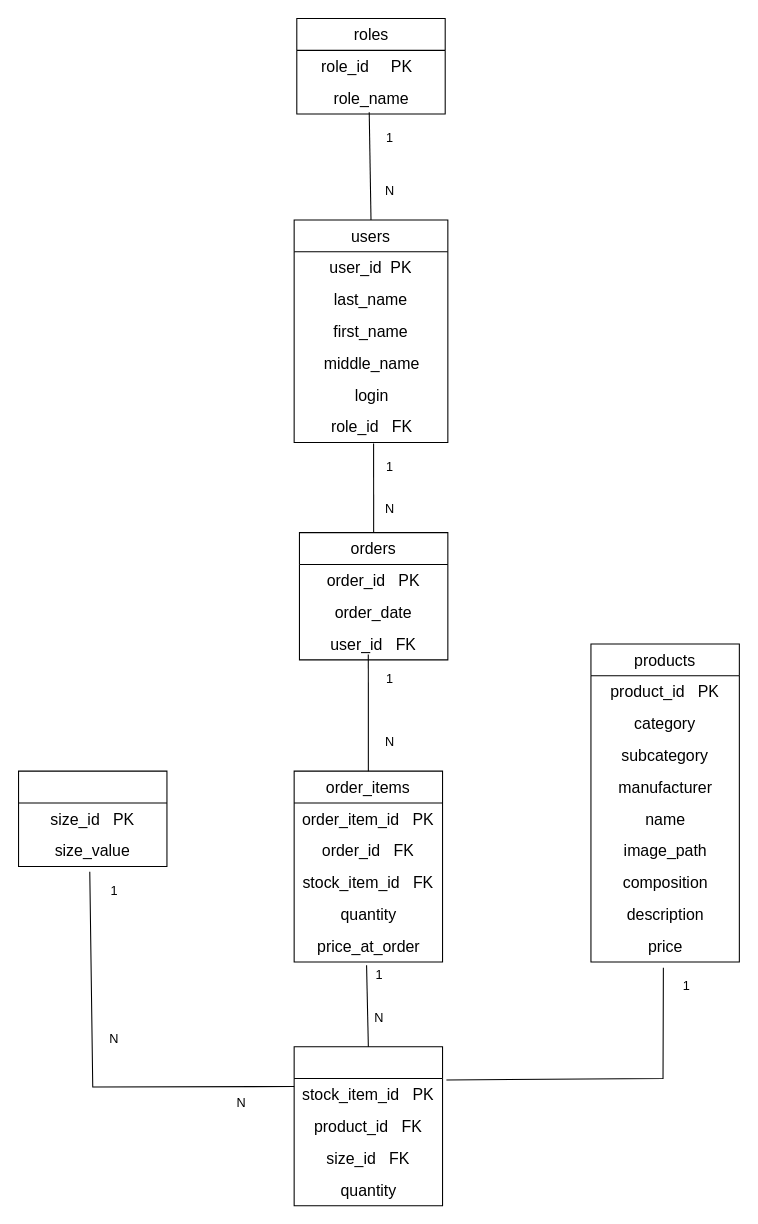
The diagram is 758 pixels wide and 1224 high, and some of its shapes have lost their labels. Each missing label, with the box of its shape:
sizes: (17, 770, 167, 867)
stock_items: (293, 1046, 443, 1206)
